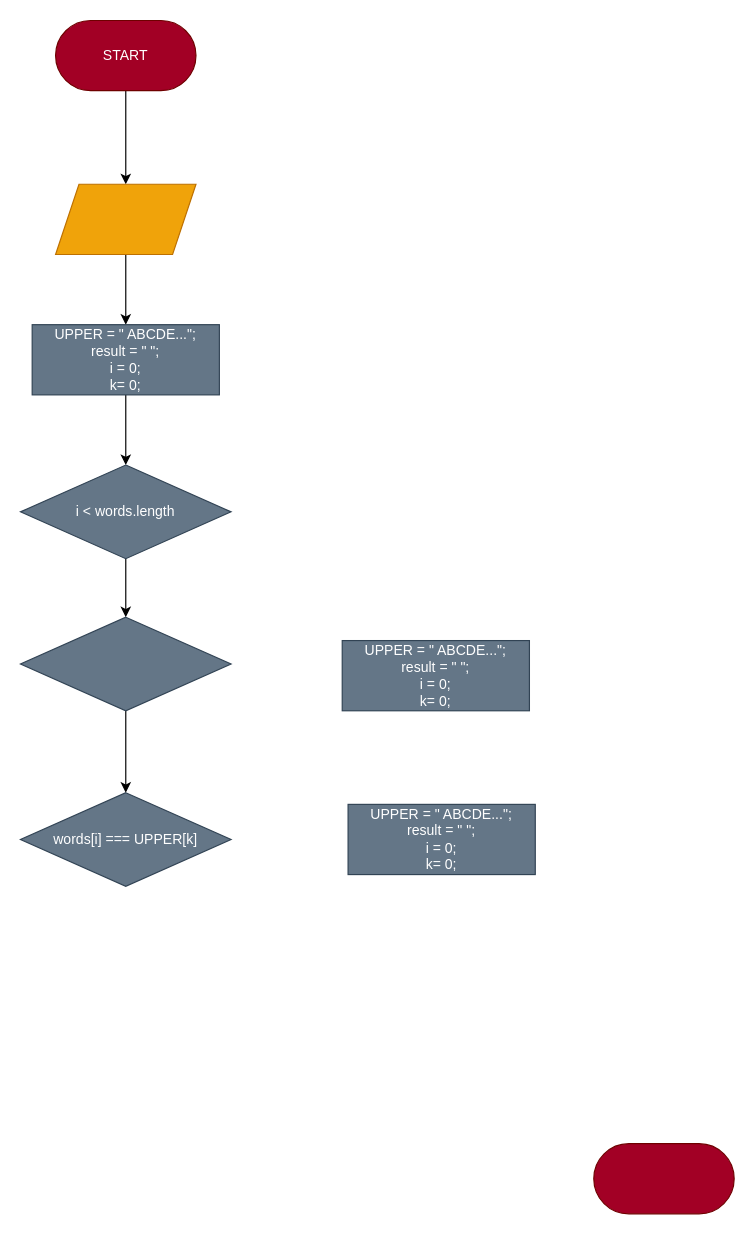
Image size: 755x1234. Some labels were removed from this diagram. The centre of each missing label's shape, as x and y in pixels:
"END" goes at (663,1178).
"i < UPPER.length" goes at (125,663).
"INPUT words" goes at (125,218).
